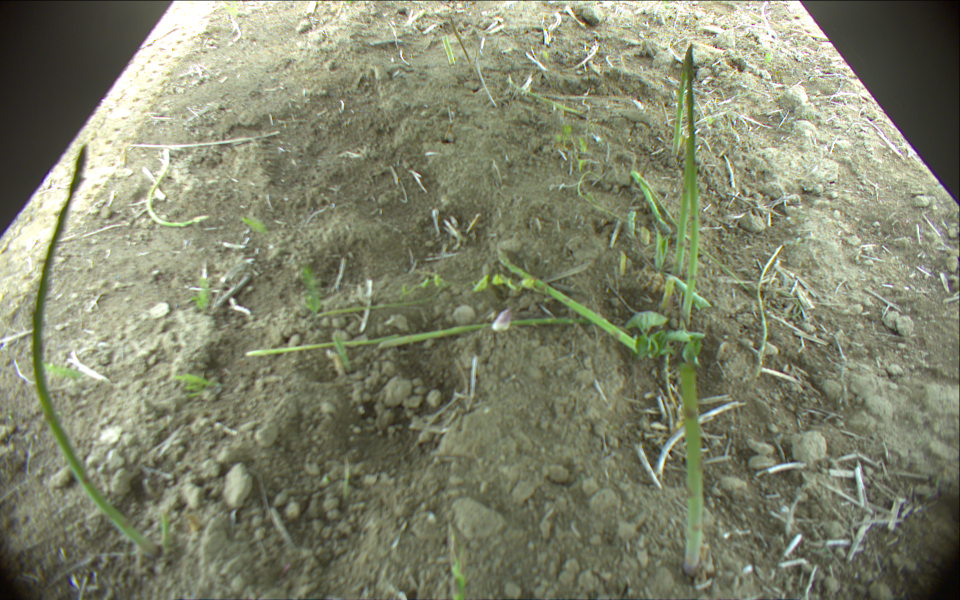aspa: (31, 144, 157, 550), (496, 248, 640, 353), (639, 176, 749, 292), (678, 44, 703, 319), (380, 318, 589, 350), (676, 363, 706, 576), (305, 283, 450, 323), (146, 148, 210, 229), (752, 241, 783, 381), (245, 333, 397, 358), (668, 136, 691, 276), (508, 82, 585, 115), (634, 169, 670, 232), (670, 63, 689, 157), (446, 9, 473, 64), (334, 335, 352, 372), (440, 34, 457, 63), (662, 277, 674, 306), (618, 250, 628, 277)
